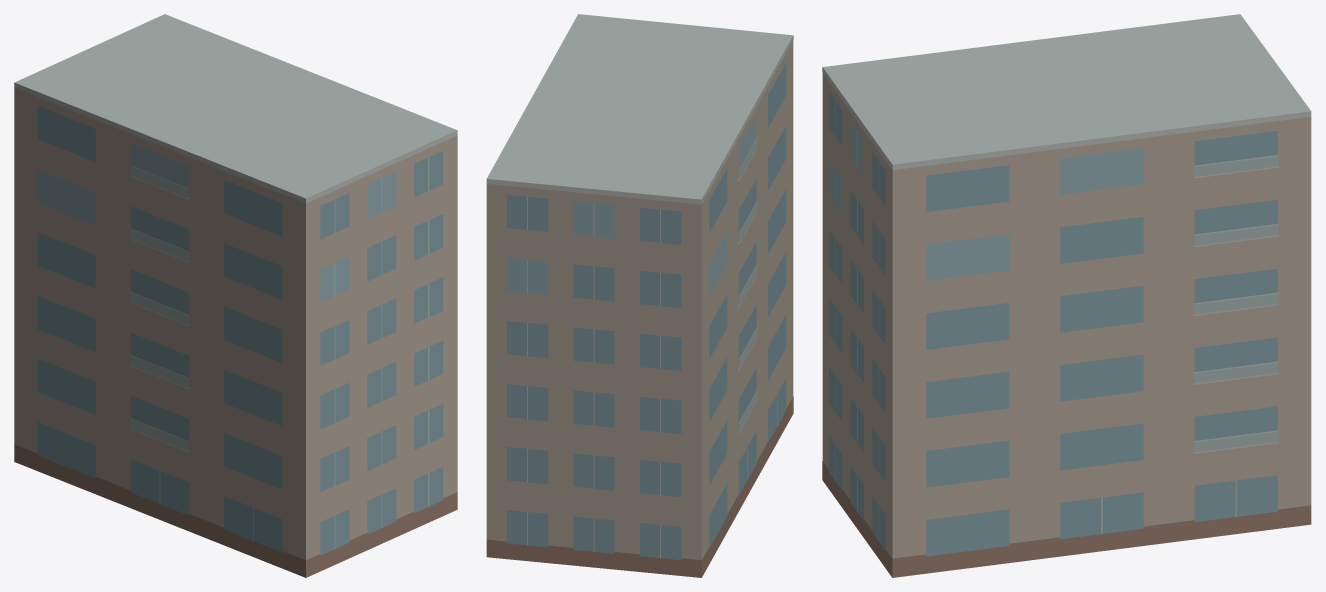
The model's file is survey-upis-32699509.glb.
3 renders of one model, left to right at view 1: azimuth 30°, elevation 25°; view 2: azimuth 150°, elevation 25°; view 3: azimuth 270°, elevation 25°, orthographic. The views are drawn at different scales.
Parts seen in each view (by area): view 1: survey-upis-32699509.tmp; view 2: survey-upis-32699509.tmp; view 3: survey-upis-32699509.tmp.
Part boxes in pixels (bbox=[...]): survey-upis-32699509.tmp: bbox=[14, 14, 457, 577]; survey-upis-32699509.tmp: bbox=[486, 14, 793, 577]; survey-upis-32699509.tmp: bbox=[822, 14, 1311, 577].
Size of the model in its own units: 14.4 by 18.4 by 19.74.
